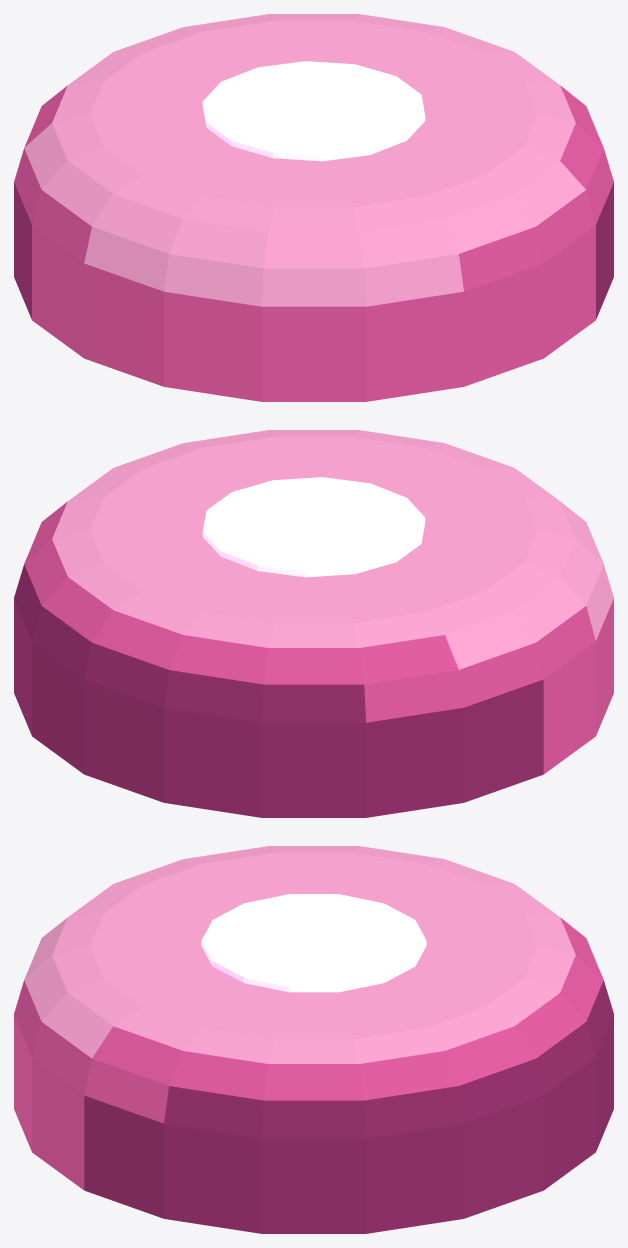
File: Plate3D_LatchPad.gltf
3 renders of one model, top to bottom at view 1: azimuth 30°, elevation 25°; view 2: azimuth 150°, elevation 25°; view 3: azimuth 270°, elevation 25°, orthographic.
Parts seen in each view (by area): view 1: Plate3D_LatchPad_baked; view 2: Plate3D_LatchPad_baked; view 3: Plate3D_LatchPad_baked.
Part boxes in pixels (left/top/right/bottom): Plate3D_LatchPad_baked: left=14, top=14, right=613, bottom=401; Plate3D_LatchPad_baked: left=14, top=430, right=613, bottom=817; Plate3D_LatchPad_baked: left=14, top=846, right=613, bottom=1233.
Bounding box in the file's own units: 0.3939 × 0.124 × 0.4.
